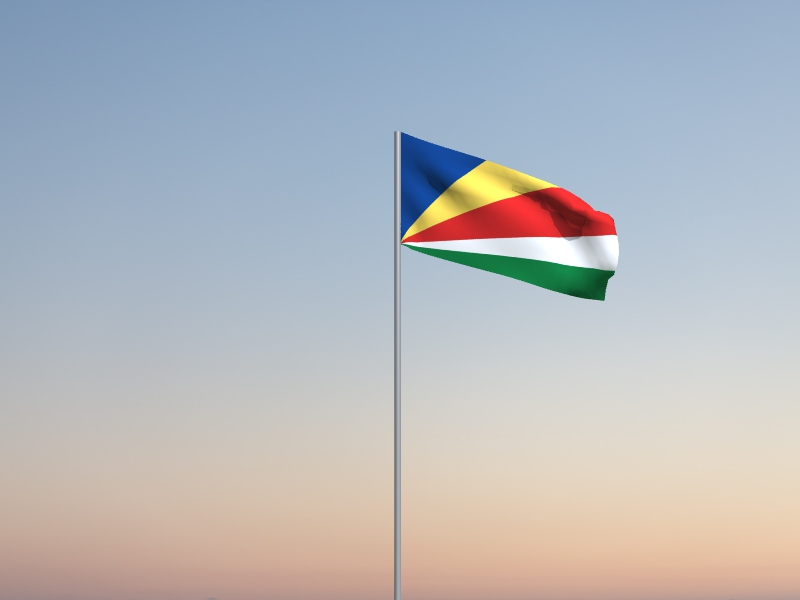sc: (401, 133, 620, 302)
